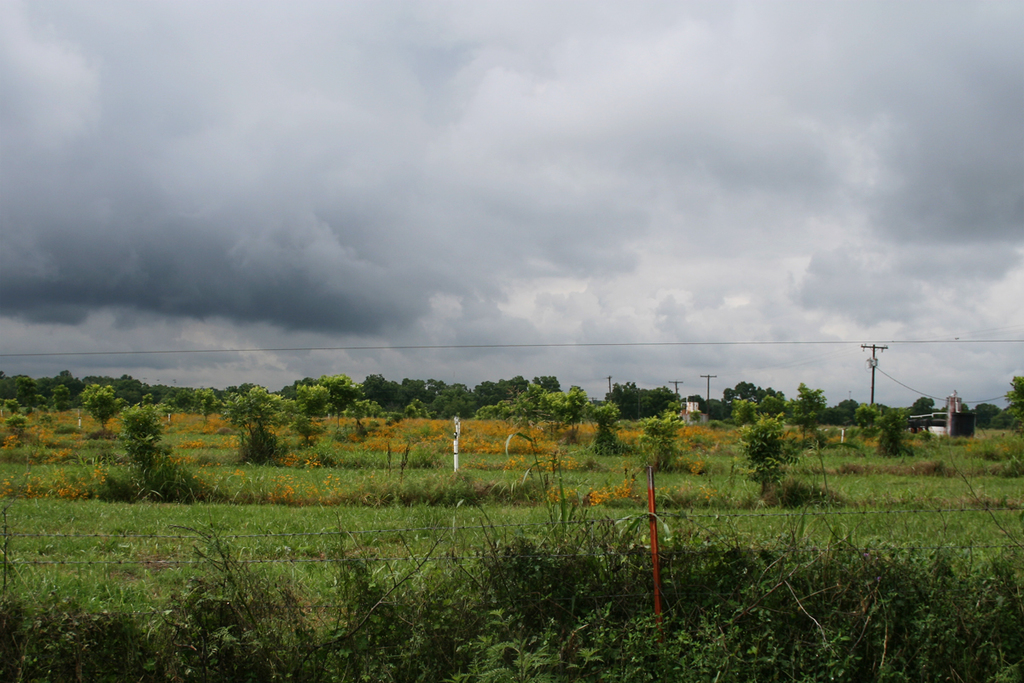Tree: (0, 369, 925, 425), (730, 420, 814, 495), (122, 402, 181, 487), (225, 384, 284, 463), (640, 408, 694, 464), (863, 415, 911, 461), (988, 370, 1023, 431)
